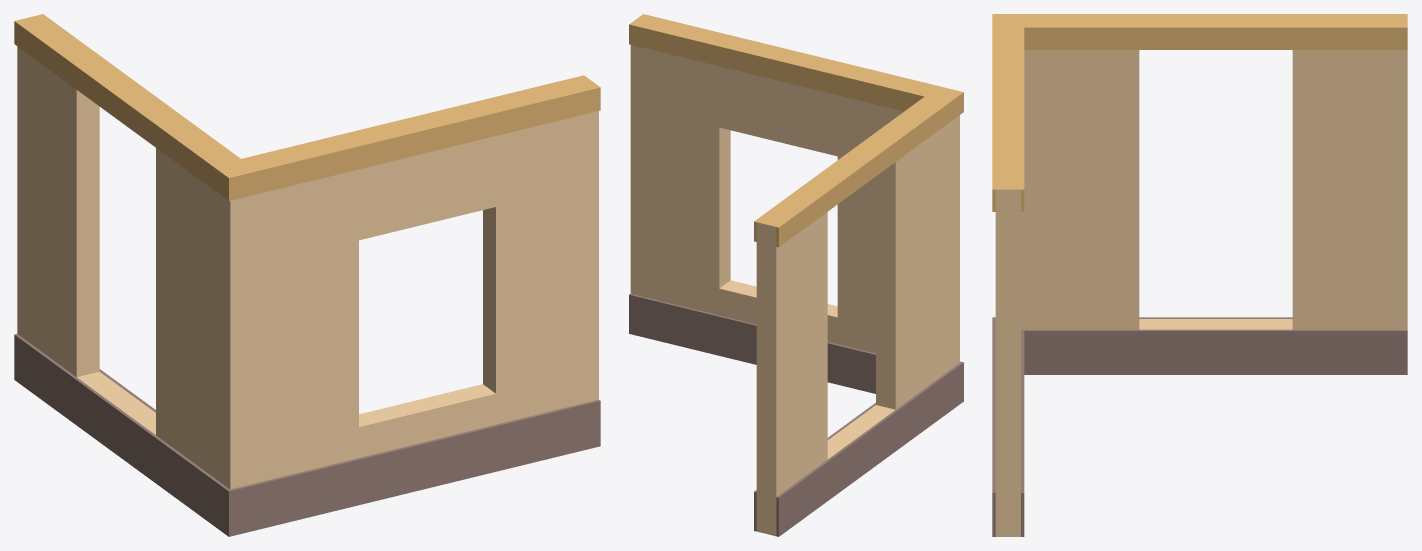
Rendered from Wall04-06.fbx.
The picture shows the model from 3 angles, left to right: view 1: azimuth 30°, elevation 25°; view 2: azimuth 150°, elevation 25°; view 3: azimuth 270°, elevation 25°; orthographic projection. The views are drawn at different scales.
Visible parts, largest first — view 1: Wall04-06; view 2: Wall04-06; view 3: Wall04-06.
Part boxes in pixels (left/top/right/bottom): Wall04-06: left=14, top=14, right=600, bottom=536; Wall04-06: left=629, top=14, right=963, bottom=536; Wall04-06: left=992, top=14, right=1407, bottom=536.
Bounding box in the file's own units: 3.25 × 3.25 × 3.
